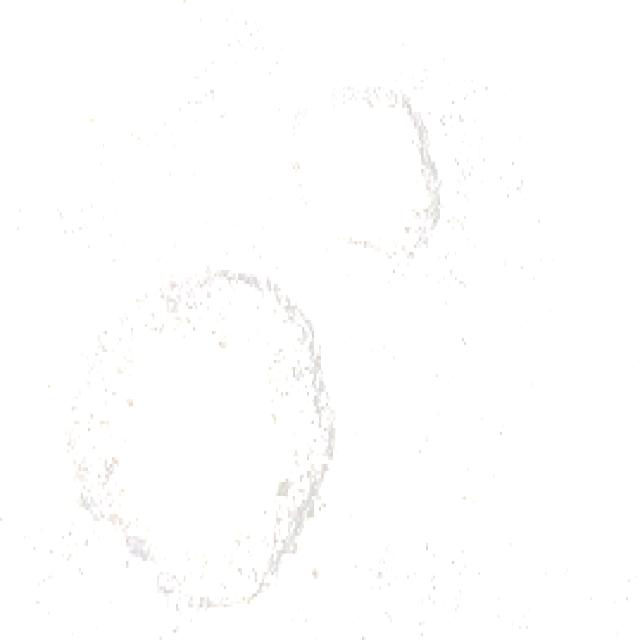Pothole: (71, 248, 336, 625)
